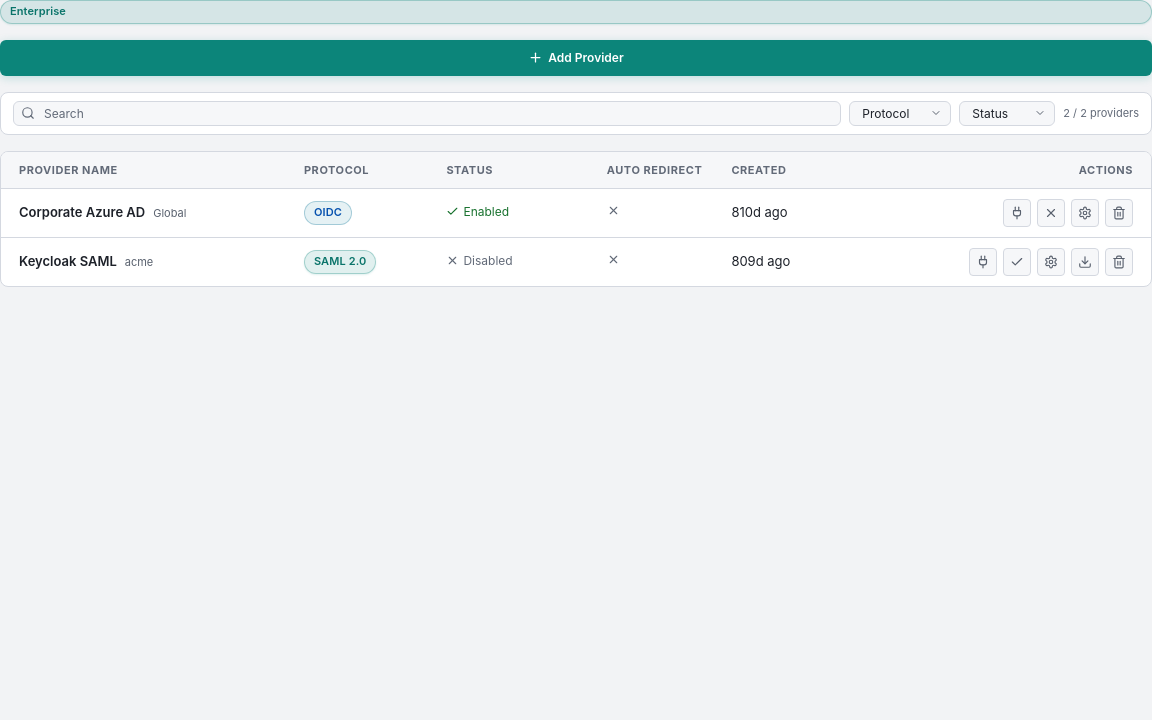
Test: SsoProviders.vue › switches to SAML form when protocol select changes to saml
Step 1. Click the button with class "btn--primary" → (576, 58), box [0,40,1151,76]
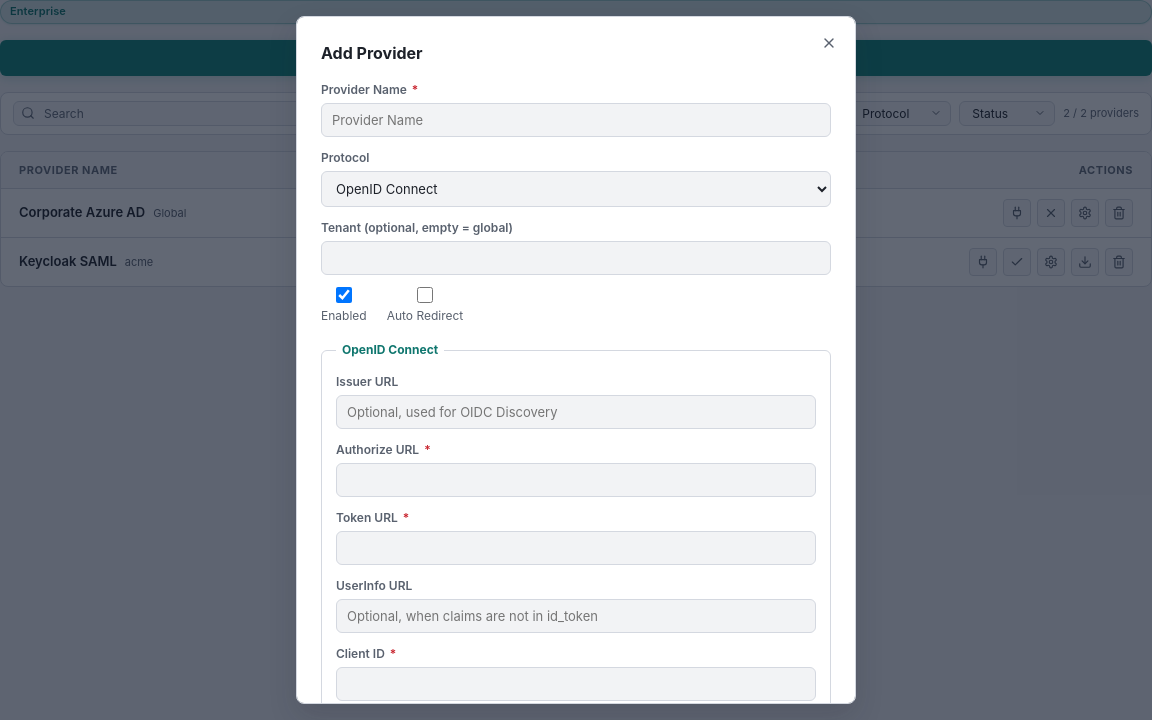
Result: the dropdown with class "sso-input" showing "Protocol" is shown
Step 2. Select "SAML 2.0" in the dropdown with class "sso-input" showing "Protocol" → (576, 189), box [321,171,831,207]
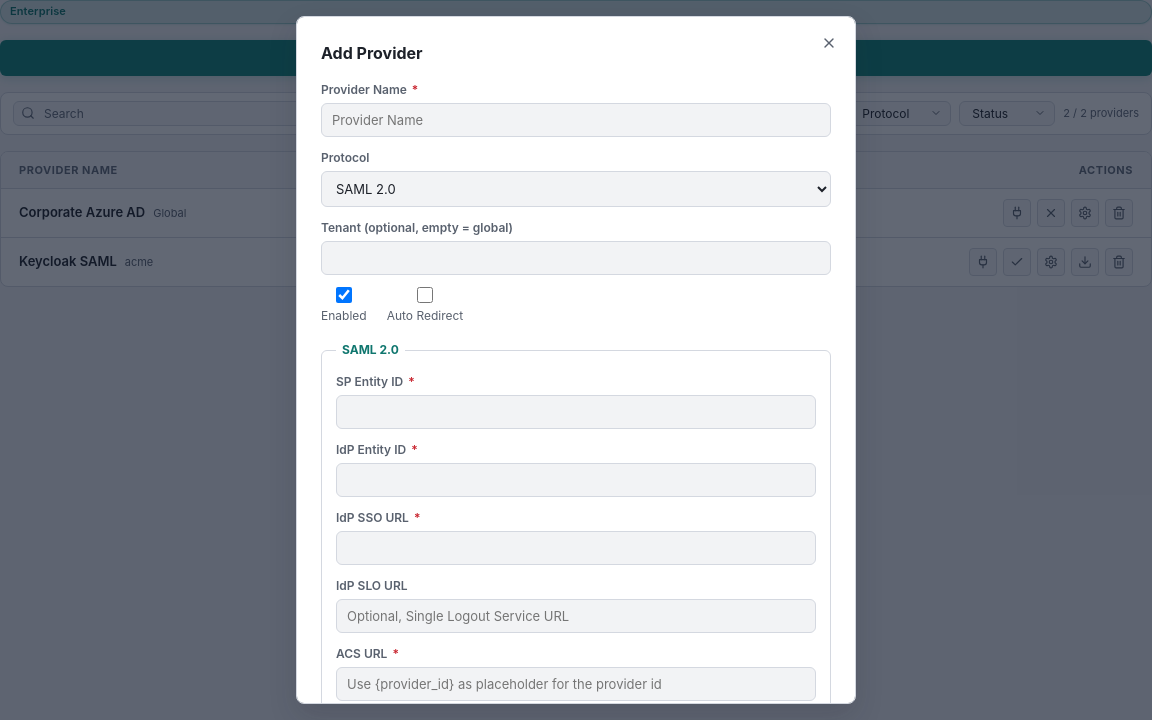
Result: the text "SP Entity ID" is shown at [336,374,406,389]
Result: the text "IdP SSO URL" is shown at [336,510,412,525]
